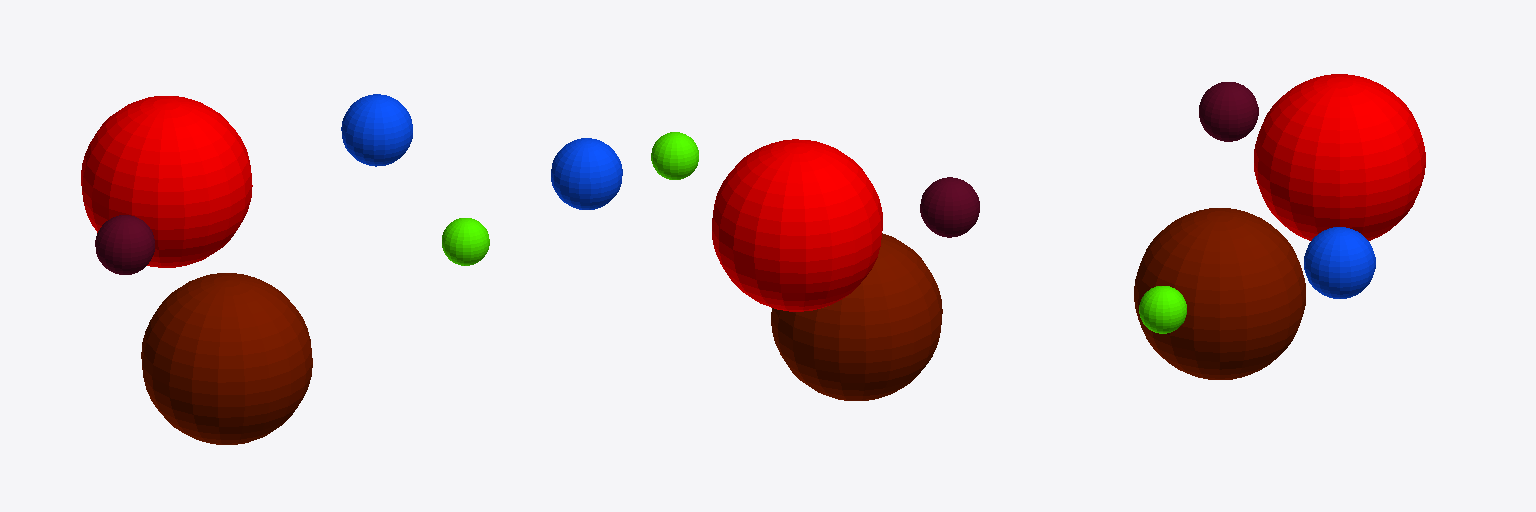
Rendered from materiales.obj.
The picture shows the model from 3 angles: view 1: azimuth 30°, elevation 25°; view 2: azimuth 150°, elevation 25°; view 3: azimuth 270°, elevation 25°; orthographic projection.
Parts seen in each view (by area): view 1: pSphere4, pSphere1, pSphere2, pSphere5, pSphere3; view 2: pSphere1, pSphere4, pSphere2, pSphere5, pSphere3; view 3: pSphere1, pSphere4, pSphere2, pSphere5, pSphere3.
Boxes of the visible parts, <box> form: pSphere4: <box>141,273,312,444</box>; pSphere1: <box>81,96,252,267</box>; pSphere2: <box>341,94,412,166</box>; pSphere5: <box>95,215,154,274</box>; pSphere3: <box>442,218,489,265</box>; pSphere1: <box>712,139,882,311</box>; pSphere4: <box>771,233,942,400</box>; pSphere2: <box>551,138,622,209</box>; pSphere5: <box>920,177,979,237</box>; pSphere3: <box>651,132,698,179</box>; pSphere1: <box>1254,74,1425,240</box>; pSphere4: <box>1134,208,1305,379</box>; pSphere2: <box>1304,227,1375,298</box>; pSphere5: <box>1199,82,1258,141</box>; pSphere3: <box>1139,286,1186,333</box>.
Bounding box in the file's own units: 4.88 × 3.71 × 3.39.